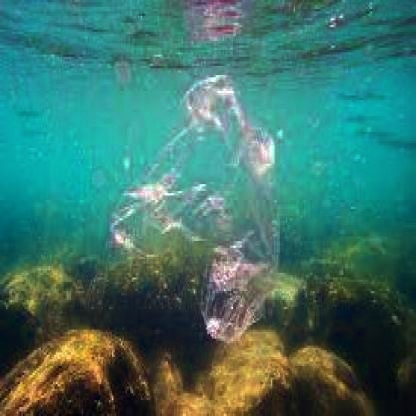pbag: (107, 68, 286, 350)
